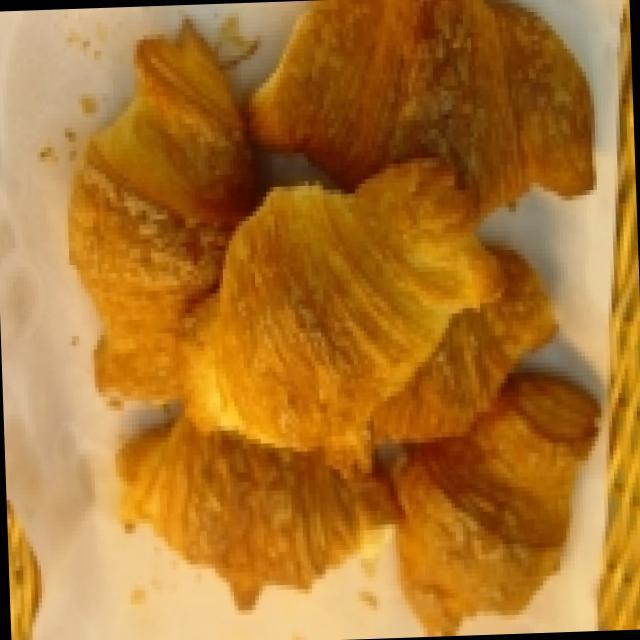Croissant: (159, 168, 506, 458)
